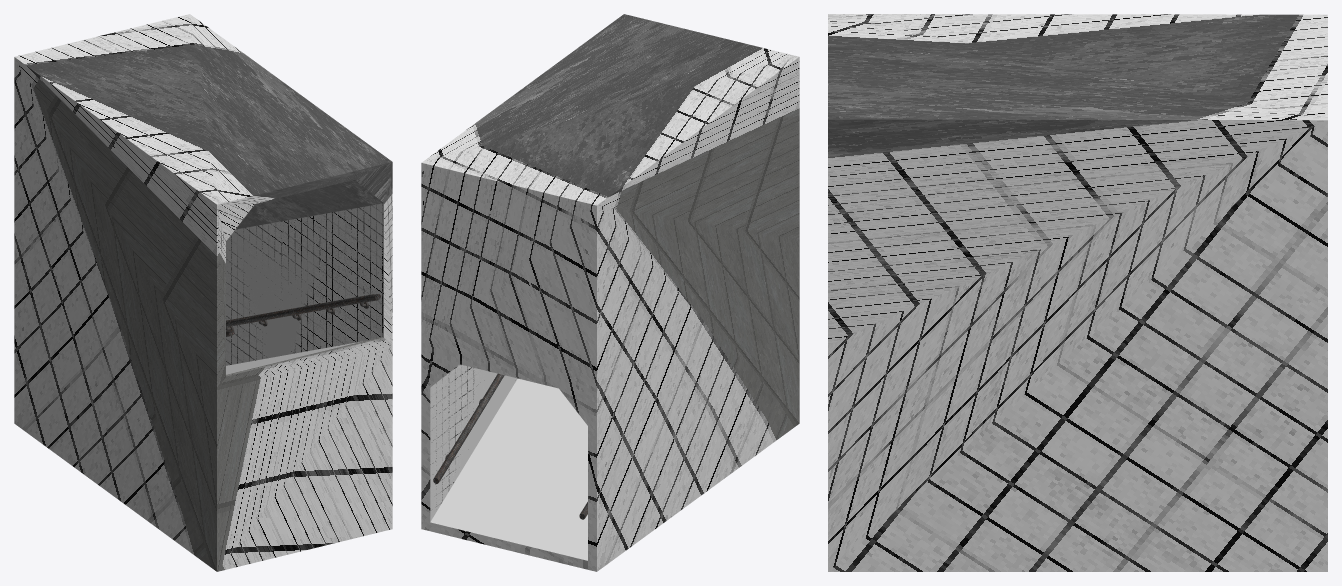
Rendered from matro-stairs.glb.
3 renders of one model, left to right at view 1: azimuth 30°, elevation 25°; view 2: azimuth 150°, elevation 25°; view 3: azimuth 270°, elevation 25°, orthographic. The views are drawn at different scales.
Visible parts, largest first — view 1: metro-stairs, metroStairs-colonly.001, BézierCurve.022; view 2: metro-stairs, metroStairs-colonly.001, BézierCurve.022; view 3: metro-stairs.
Boxes of the visible parts, x1=… form: metro-stairs: x1=14, y1=14, x2=392, y2=571; metroStairs-colonly.001: x1=226, y1=203, x2=383, y2=374; BézierCurve.022: x1=226, y1=294, x2=380, y2=327; metro-stairs: x1=421, y1=14, x2=799, y2=571; metroStairs-colonly.001: x1=430, y1=364, x2=587, y2=560; BézierCurve.022: x1=433, y1=373, x2=504, y2=483; metro-stairs: x1=828, y1=14, x2=1327, y2=571.
Bounding box in the file's own units: 3 × 5.99 × 6.
Materials: 2 (2 with a texture image).
